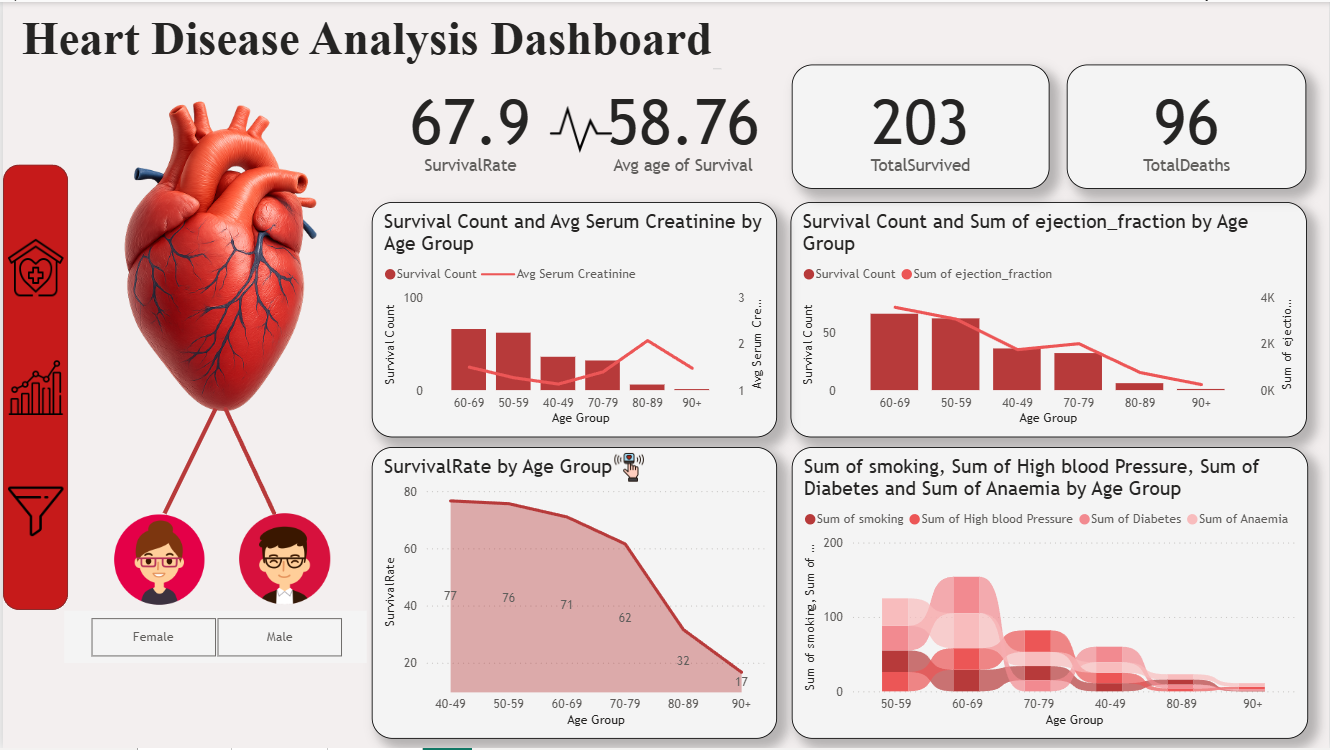

This screenshot's page, from the dashboard's own definition file:
{"tool":"powerbi","page":{"name":"Page 1","canvas":[1280,720],"ordinal":0},"visuals":[{"type":"lineStackedColumnComboChart","fields":{"Y":["Heart.Survival Count"],"Category":["Heart.Age Group"],"Y2":["Sum(Heart.ejection_fraction)"]},"box":[760,192.9,498.6,227.1],"z":0},{"type":"lineStackedColumnComboChart","fields":{"Category":["Heart.Age Group"],"Y":["Heart.Survival Count"],"Y2":["Heart.Avg Serum Creatinine"]},"box":[355.7,192.9,391.4,227.1],"z":1000},{"type":"stackedAreaChart","fields":{"Category":["Heart.Age Group"],"Y":["Heart.Survival Rate (%)"]},"box":[355.7,430,391.4,281.4],"z":2000},{"type":"ribbonChart","fields":{"Category":["Heart.Age Group"],"Y":["Sum(Heart.smoking)","Sum(Heart.High blood Pressure)","Sum(Heart.Diabetes)","Sum(Heart.Anaemia)"]},"box":[761.4,430,498.6,281.4],"z":3000},{"type":"shape","box":[0,157.1,62.9,430],"z":4000},{"type":"image","box":[31.6,56.3,365,400.7],"z":5000},{"type":"card","fields":{"Values":["Heart.SurvivalRate"]},"box":[355.4,60.4,190.7,119.4],"z":6000},{"type":"image","box":[88.6,490,125.7,97.1],"z":7000},{"type":"image","box":[204.5,488.5,135.8,97.4],"z":8000},{"type":"textbox","title":"Heart Disease Analysis Dashboard","box":[13.7,9.6,684.7,60.4],"z":9000},{"type":"card","fields":{"Values":["Heart.Avg age of Survival"]},"box":[565.7,60,181.4,120],"z":10000},{"type":"card","fields":{"Values":["Heart.TotalSurvived"]},"box":[761.4,60,248.6,120],"z":11000},{"type":"card","fields":{"Values":["Heart.TotalDeaths"]},"box":[1027.1,60,231.4,120],"z":12000},{"type":"image","box":[0,222.3,63.1,68.6],"z":13000},{"type":"image","box":[0,337.6,63.1,68.6],"z":14000},{"type":"image","box":[0,456.9,63.1,68.6],"z":15000},{"type":"shape","box":[204.5,391.1,68.6,104.3],"z":16000},{"type":"shape","box":[98.8,391.1,163.3,104.3],"z":17000},{"type":"slicer","fields":{"Values":["Heart.Gender"]},"box":[59,587.3,292.3,50.8],"z":18000},{"type":"pageNavigator","box":[0,222.3,63.1,68.6],"z":19000},{"type":"pageNavigator","box":[0,337.6,63.1,68.6],"z":20000},{"type":"pageNavigator","box":[0,455.6,63.1,68.6],"z":21000},{"type":"image","box":[495.4,87.8,123.5,70],"z":22000},{"type":"image","box":[580.4,429.5,48,39.8],"z":23000}]}

Visuals, with their boxes in screenshot pixels (x1, y1, x2, y2), scaled from the page's 1280x720 canvas onto the 1330x750 screenshot:
lineStackedColumnComboChart - Heart.Survival Count x Heart.Age Group: region(790, 201, 1308, 438)
lineStackedColumnComboChart - Heart.Age Group x Heart.Survival Count: region(370, 201, 776, 438)
stackedAreaChart - Heart.Age Group x Heart.Survival Rate (%): region(370, 448, 776, 741)
ribbonChart - Heart.Age Group x Sum(Heart.smoking): region(791, 448, 1309, 741)
shape: region(0, 164, 65, 612)
image: region(33, 59, 412, 476)
card - Heart.SurvivalRate: region(369, 63, 567, 187)
image: region(92, 510, 223, 612)
image: region(212, 509, 354, 610)
"Heart Disease Analysis Dashboard" textbox: region(14, 10, 726, 73)
card - Heart.Avg age of Survival: region(588, 63, 776, 188)
card - Heart.TotalSurvived: region(791, 63, 1049, 188)
card - Heart.TotalDeaths: region(1067, 63, 1308, 188)
image: region(0, 232, 66, 303)
image: region(0, 352, 66, 423)
image: region(0, 476, 66, 547)
shape: region(212, 407, 284, 516)
shape: region(103, 407, 272, 516)
slicer - Heart.Gender: region(61, 612, 365, 665)
pageNavigator: region(0, 232, 66, 303)
pageNavigator: region(0, 352, 66, 423)
pageNavigator: region(0, 475, 66, 546)
image: region(515, 91, 643, 164)
image: region(603, 447, 653, 489)
